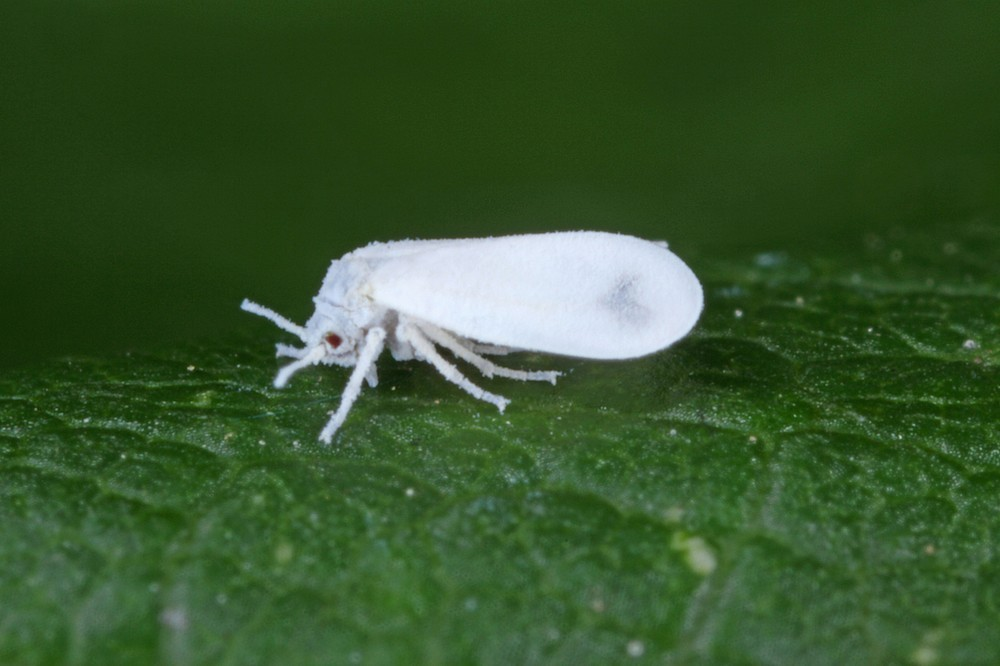Mosca Blanca: (220, 165, 731, 448)
